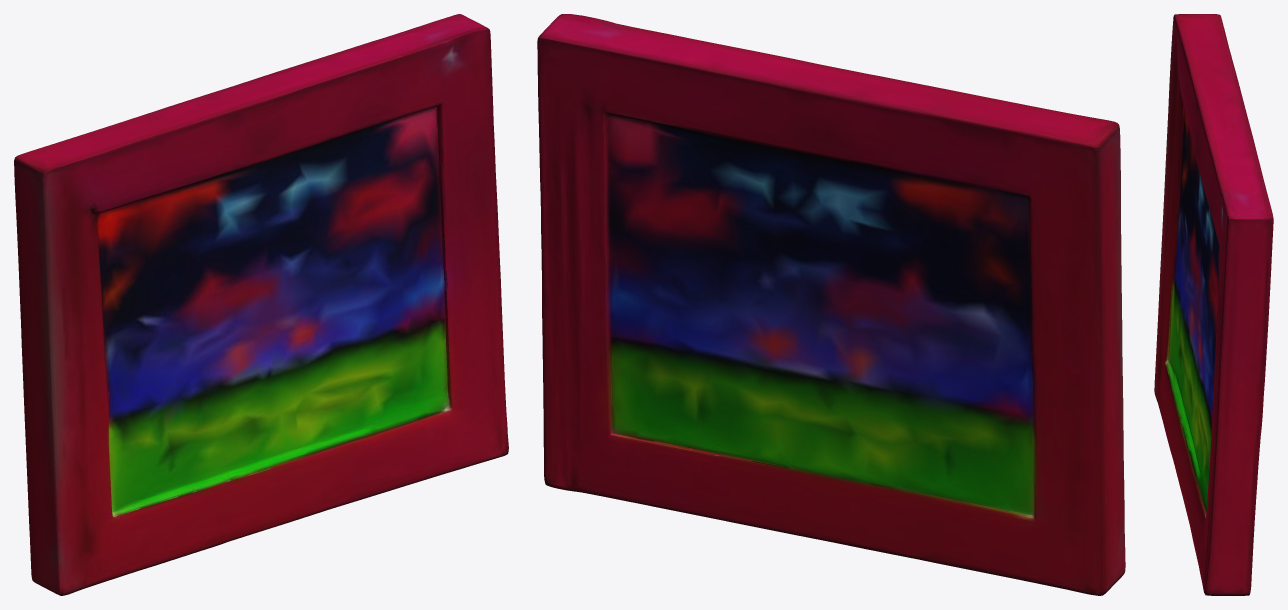
Rendered from framed_red_and_green_painting_on_wall_000.glb.
The picture shows the model from 3 angles, left to right: view 1: azimuth 30°, elevation 25°; view 2: azimuth 150°, elevation 25°; view 3: azimuth 270°, elevation 25°; orthographic projection. The views are drawn at different scales.
Visible parts, largest first — view 1: framed_red_and_green_painting_on_wall_000.obj; view 2: framed_red_and_green_painting_on_wall_000.obj; view 3: framed_red_and_green_painting_on_wall_000.obj.
Boxes of the visible parts, left/top/right/bottom form: framed_red_and_green_painting_on_wall_000.obj: left=14, top=14, right=508, bottom=595; framed_red_and_green_painting_on_wall_000.obj: left=537, top=14, right=1125, bottom=595; framed_red_and_green_painting_on_wall_000.obj: left=1154, top=14, right=1273, bottom=595.
Bounding box in the file's own units: 0.3609 × 0.302 × 0.0849.
Materials: 1 (1 with a texture image).
